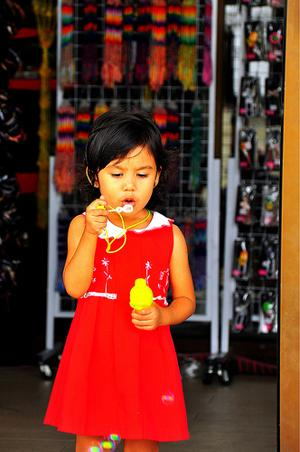person: (42, 107, 194, 452)
